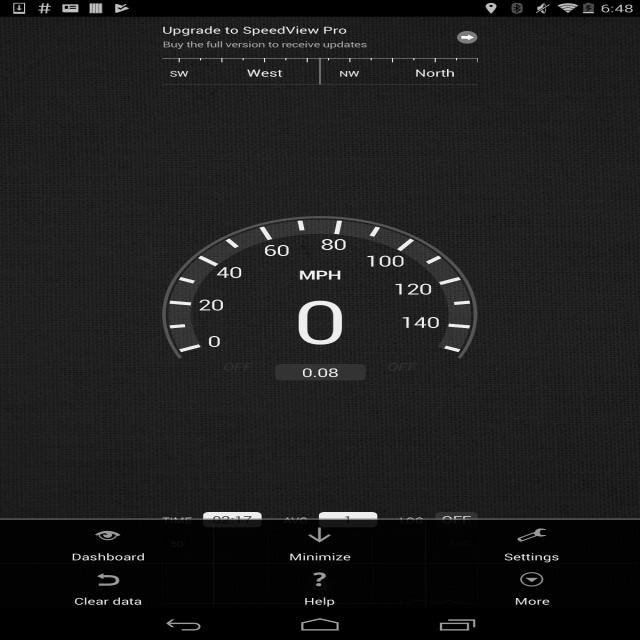ImageButton: (450, 28, 488, 46)
ImageView: (302, 570, 345, 586), (303, 526, 336, 543), (87, 528, 127, 542), (91, 571, 125, 586), (516, 572, 550, 587), (518, 528, 553, 542)
TextView: (156, 22, 375, 50), (70, 594, 155, 610), (66, 551, 152, 564), (293, 266, 349, 285), (498, 550, 560, 566), (411, 64, 465, 82), (396, 313, 443, 333), (396, 280, 435, 300), (510, 594, 560, 608), (294, 595, 349, 607), (286, 553, 356, 562), (248, 68, 291, 82), (198, 296, 230, 314), (295, 368, 348, 378), (164, 66, 196, 82), (260, 244, 292, 257)
